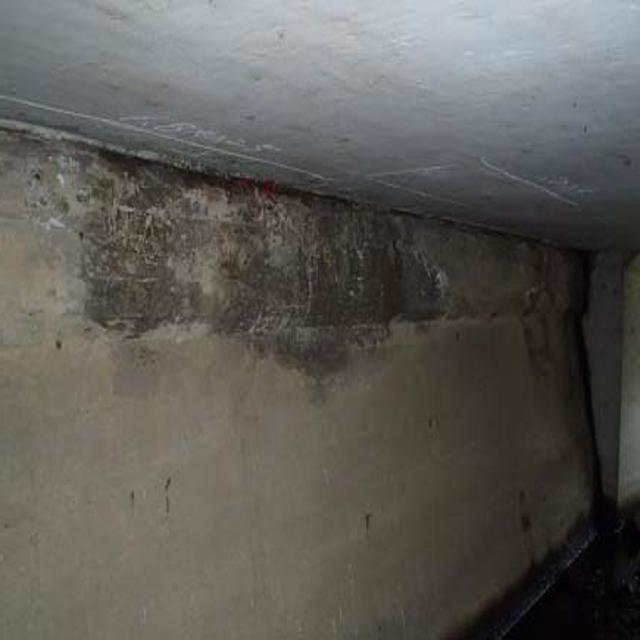freelime: (81, 124, 450, 357)
